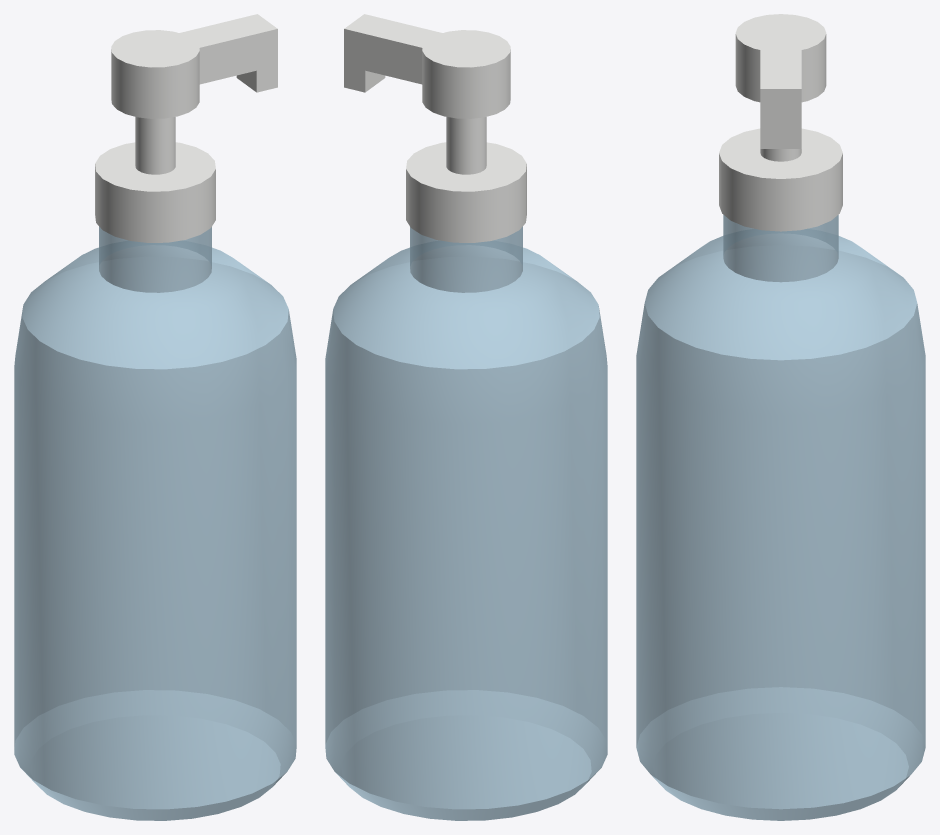
The model's file is alcool_em_gel_500ml.dae.
3 views of the same model, side by side, from view 1: azimuth 30°, elevation 25°; view 2: azimuth 150°, elevation 25°; view 3: azimuth 270°, elevation 25° (orthographic).
Visible parts, largest first — view 1: Alcool em gel 500ml (×2); view 2: Alcool em gel 500ml (×2); view 3: Alcool em gel 500ml (×2).
Part boxes in pixels (box(x1,y1,x2,y2)): Alcool em gel 500ml (×2): box(14, 14, 296, 820); Alcool em gel 500ml (×2): box(325, 14, 607, 820); Alcool em gel 500ml (×2): box(636, 14, 925, 820).
Bounding box in the file's own units: 70 × 70 × 196.
